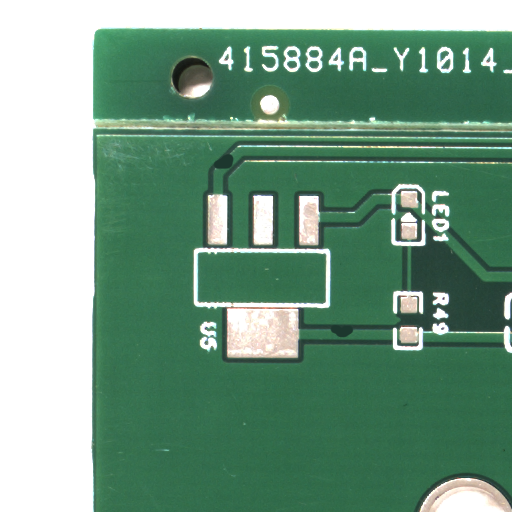Mouse_bite: (342, 329, 371, 347), (222, 160, 249, 179)
